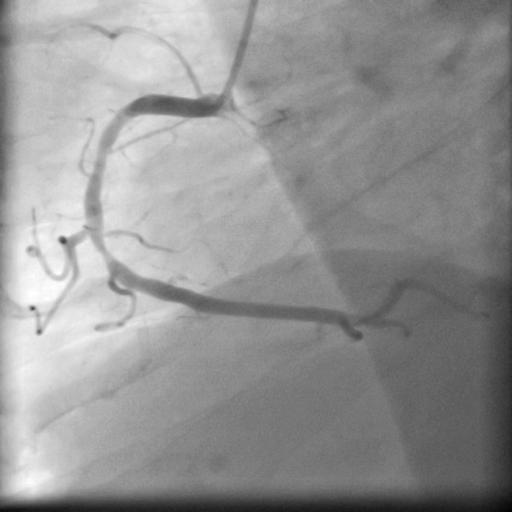Stenosis: (92, 227, 115, 273)
